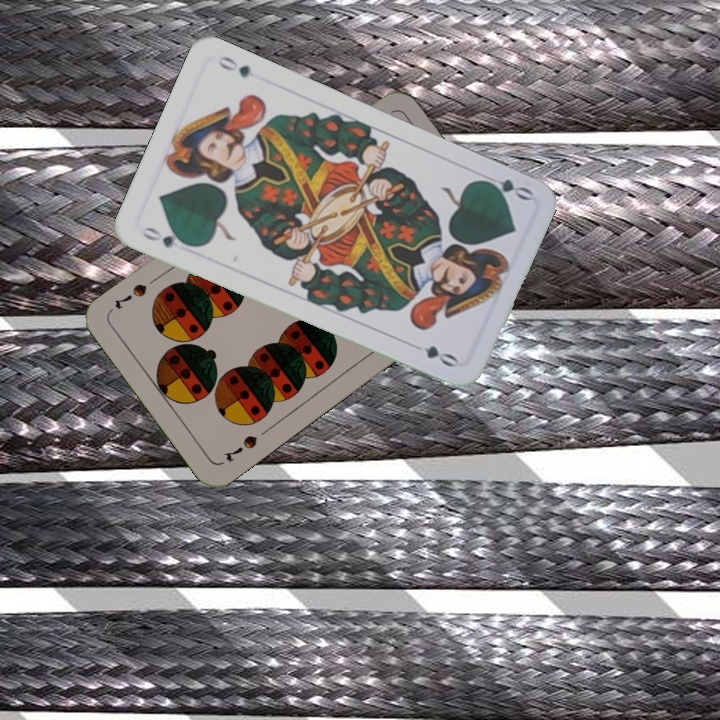GO: (476, 174, 535, 204), (138, 222, 195, 251)
S7: (220, 431, 260, 465)
